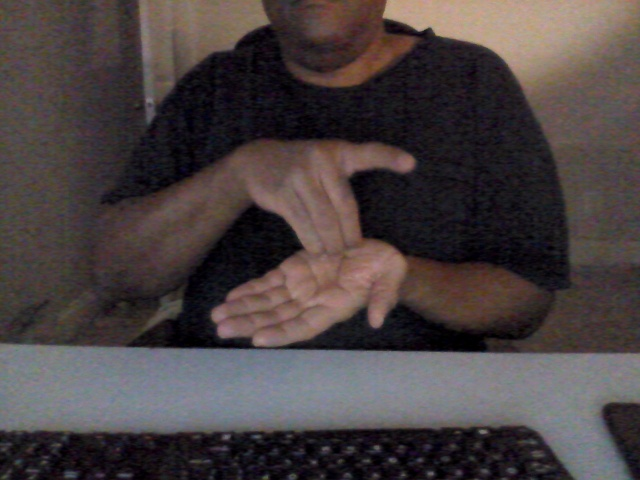doctor: (208, 135, 418, 352)
